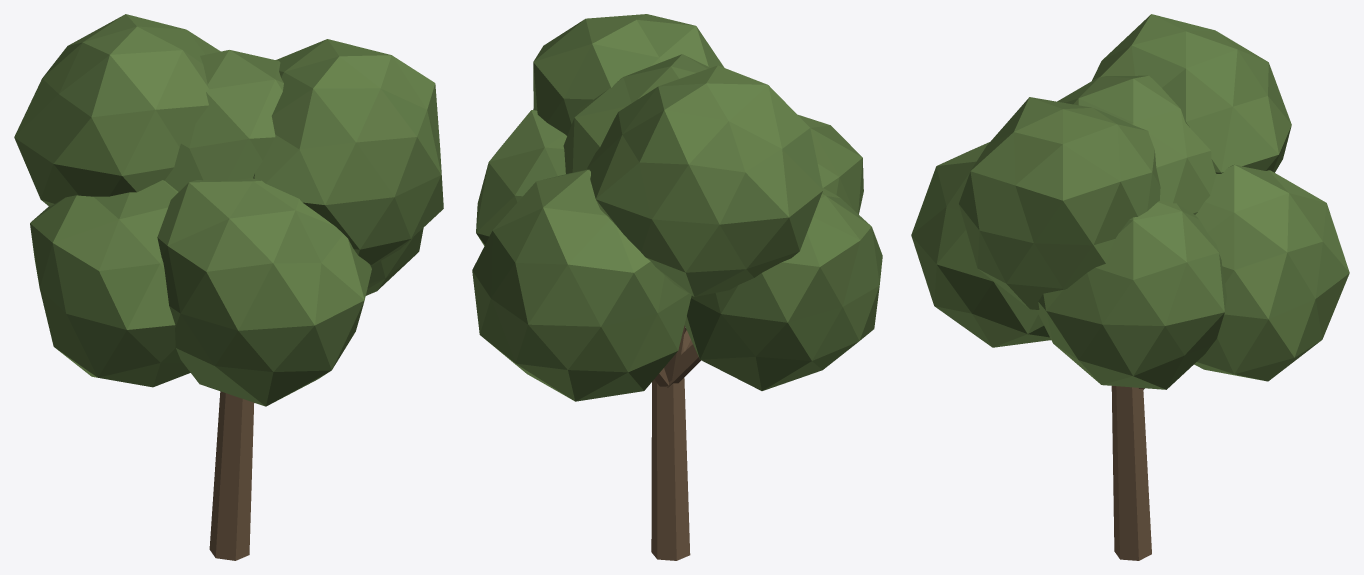
Rendered from tree_oak.glb.
3 views of the same model, side by side, from view 1: azimuth 30°, elevation 25°; view 2: azimuth 150°, elevation 25°; view 3: azimuth 270°, elevation 25° (orthographic). The views are drawn at different scales.
Parts seen in each view (by area): view 1: tree_oak_visual; view 2: tree_oak_visual; view 3: tree_oak_visual.
Boxes of the visible parts, bbox=[...] form: tree_oak_visual: bbox=[14, 14, 443, 560]; tree_oak_visual: bbox=[472, 14, 882, 560]; tree_oak_visual: bbox=[911, 14, 1349, 560].
Bounding box in the file's own units: 4.61 × 6.18 × 4.99.
